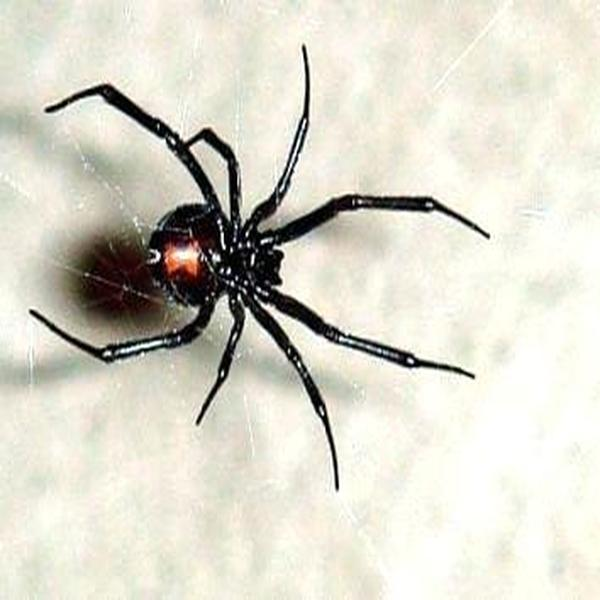Redback Spider: (36, 44, 484, 484)
